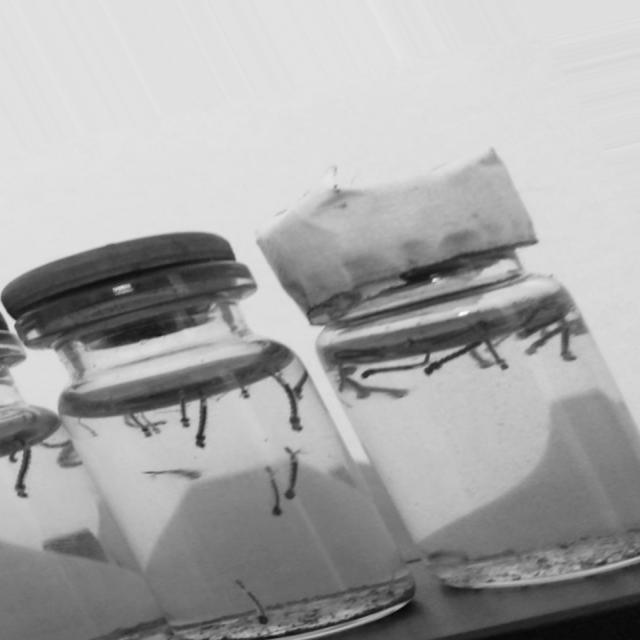larvas: (262, 359, 309, 436), (363, 350, 433, 382), (425, 338, 478, 376), (518, 307, 567, 342), (238, 575, 268, 623), (525, 325, 562, 357), (486, 337, 510, 370), (46, 442, 78, 465), (347, 374, 373, 402), (468, 346, 494, 370), (560, 324, 577, 360), (18, 448, 30, 498), (286, 448, 298, 498), (144, 468, 198, 479), (196, 392, 207, 446), (131, 412, 152, 438), (270, 468, 281, 515), (335, 348, 380, 359), (371, 387, 409, 400), (141, 411, 161, 435), (294, 373, 310, 400), (236, 371, 252, 398), (10, 432, 20, 470), (179, 393, 189, 426), (80, 418, 96, 436), (338, 371, 345, 391), (344, 368, 358, 376), (157, 418, 166, 426)
